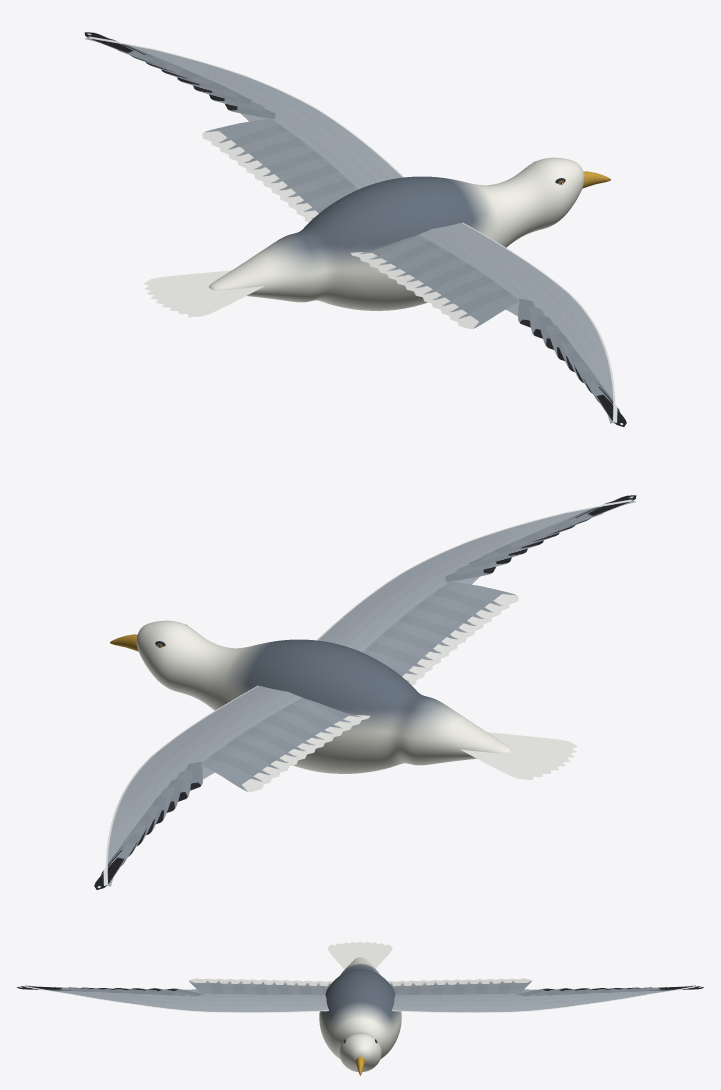
File: gull.glb
3 views of the same model, one above another, from view 1: azimuth 30°, elevation 25°; view 2: azimuth 150°, elevation 25°; view 3: azimuth 270°, elevation 25° (orthographic). The views are drawn at different scales.
Visible parts, largest first — view 1: gull; view 2: gull; view 3: gull.
Part boxes in pixels (x1,y1,x2,y2): gull: [84, 32, 626, 426]; gull: [94, 495, 636, 889]; gull: [17, 941, 703, 1075].
Bounding box in the file's own units: 0.7522 × 0.1832 × 1.54.
Materials: 7 (6 with a texture image).
